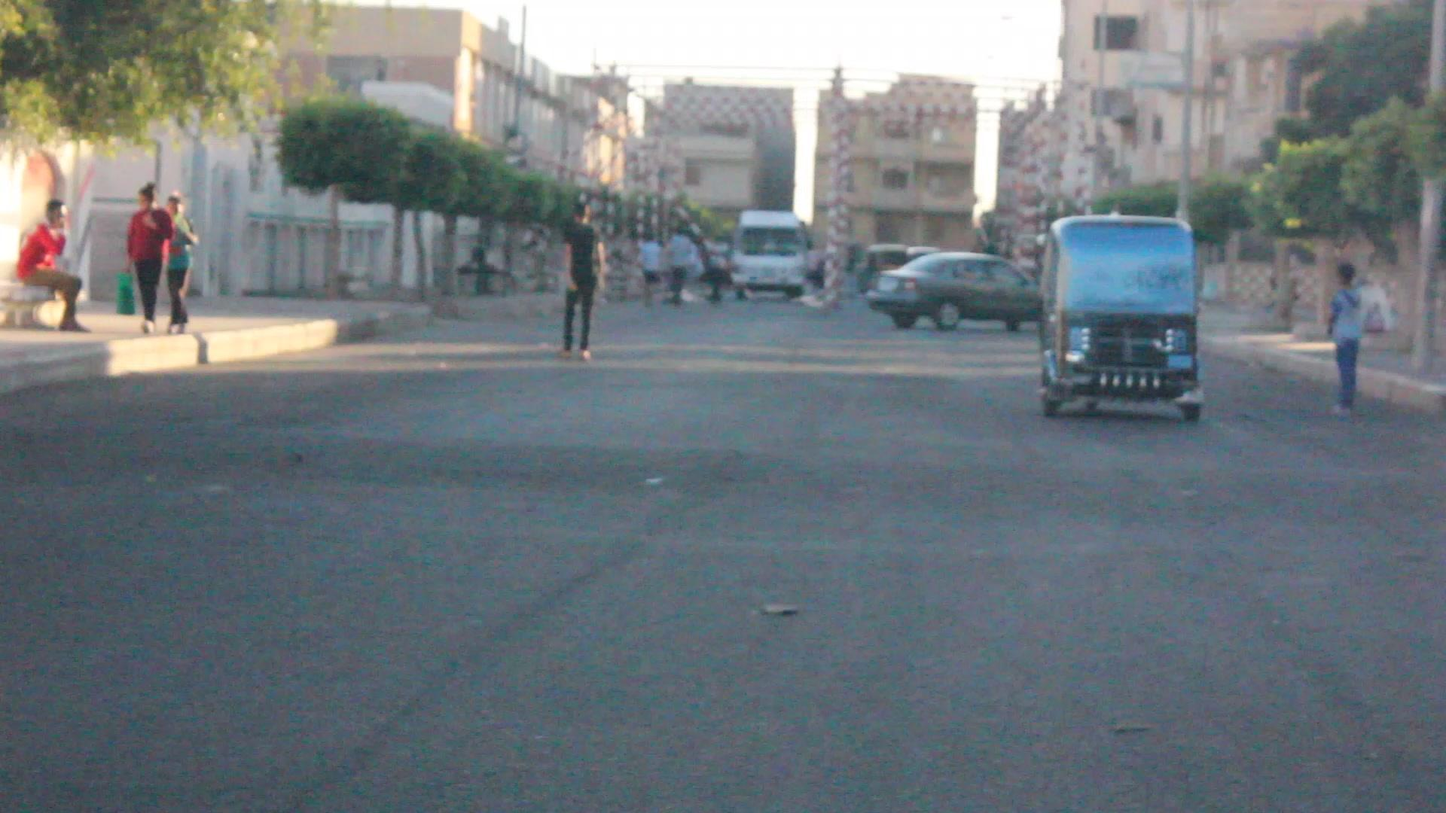Bump: (0, 393, 1446, 555)
